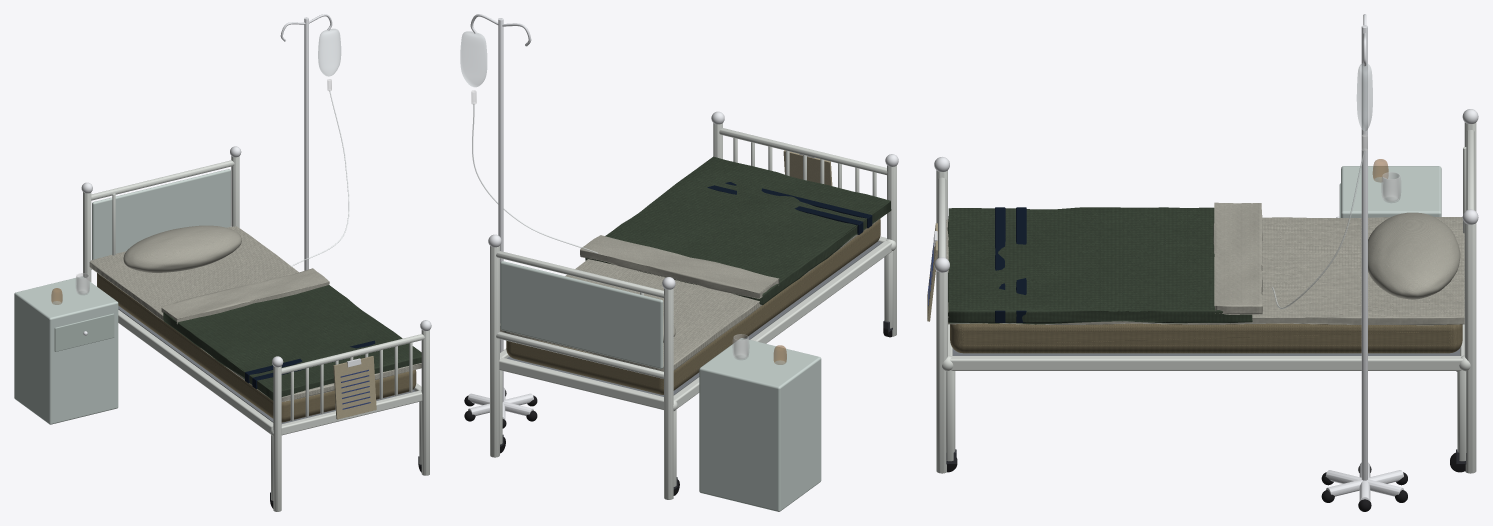
Rendered from hospital_bed.glb.
The picture shows the model from 3 angles, left to right: view 1: azimuth 30°, elevation 25°; view 2: azimuth 150°, elevation 25°; view 3: azimuth 270°, elevation 25°; orthographic projection. The views are drawn at different scales.
Visible parts, largest first — view 1: blanket, nightstand, board, sheet, mattress, pillow, fold, fpost (×2), frame_side, chart, ns_drawer, post (×2) (+6 smaller); view 2: blanket, nightstand, board, mattress, sheet, fold, post (×2), rail (×2), frame_side, frame_end, pole, frail (+6 smaller); view 3: blanket, sheet, mattress, frame_side, pillow, fold, nightstand, pole, post, fpost, leg (×2), spring (+5 smaller).
Part boxes in pixels (box(x1,y1,x2,y2)): blanket: box(163, 285, 421, 400); nightstand: box(14, 276, 118, 424); board: box(92, 169, 230, 259); sheet: box(89, 226, 421, 401); mattress: box(97, 273, 416, 422); pillow: box(123, 225, 241, 272); fold: box(160, 268, 329, 324); fpost (×2): box(273, 330, 429, 511); frame_side: box(118, 309, 273, 434); chart: box(333, 356, 376, 419); ns_drawer: box(54, 313, 114, 351); post (×2): box(83, 156, 239, 281); blanket: box(585, 156, 891, 305); nightstand: box(699, 338, 821, 511); board: box(500, 261, 663, 368); mattress: box(506, 219, 880, 394); sheet: box(500, 218, 880, 371); fold: box(580, 235, 779, 298); post (×2): box(490, 246, 673, 499); rail (×2): box(496, 251, 664, 378); frame_side: box(673, 240, 892, 408); frame_end: box(499, 357, 663, 409); pole: box(498, 18, 503, 401); frail: box(719, 128, 887, 175); blanket: box(947, 207, 1252, 324); sheet: box(946, 217, 1464, 325); mattress: box(950, 323, 1462, 353); frame_side: box(949, 356, 1462, 370); pillow: box(1368, 212, 1460, 299); fold: box(1213, 202, 1262, 314); nightstand: box(1341, 166, 1441, 217); pole: box(1361, 25, 1367, 480); post: box(1464, 223, 1476, 473); fpost: box(936, 271, 947, 473); leg (×2): box(946, 370, 1466, 461); spring: box(952, 348, 1459, 355).
Bounding box in the file's own units: 1.82 × 1.95 × 2.09.
19 materials, 6 textured.
